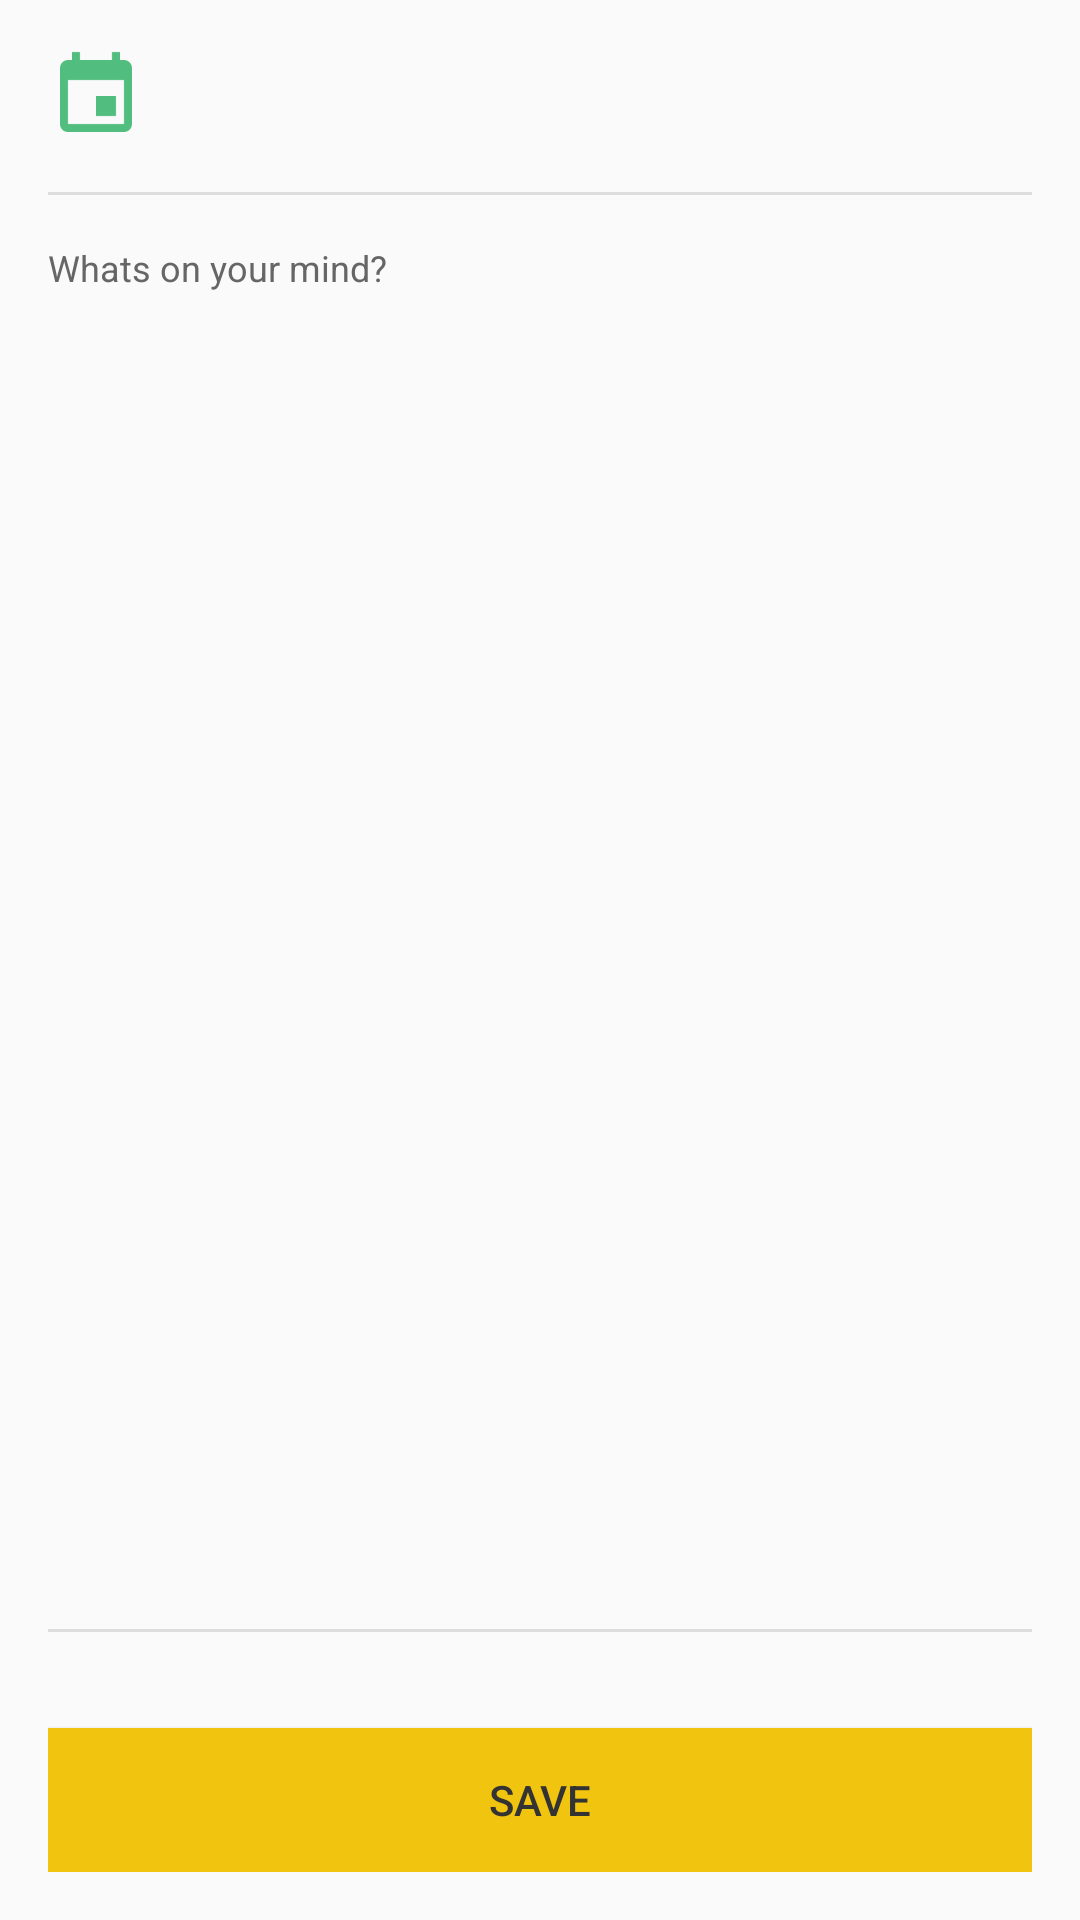

Icon click points for this 1080x1920 phone screenshot, format [x,y]:
calendar: [96,92]
